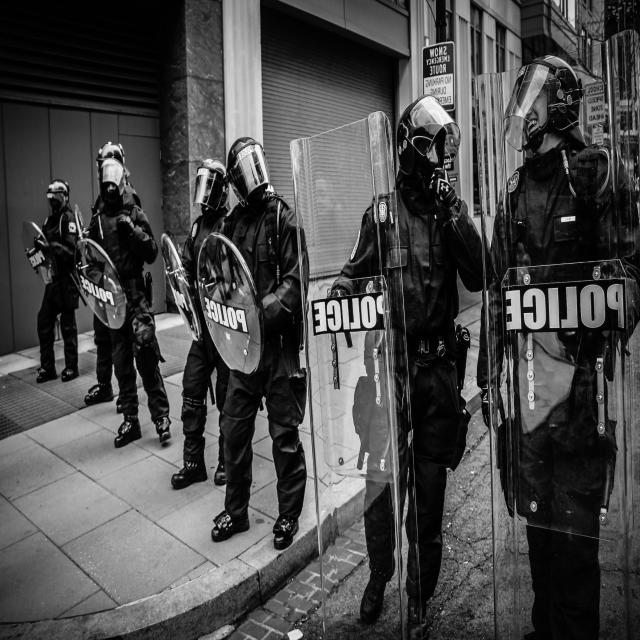adult: (330, 86, 498, 640), (480, 58, 634, 640), (212, 134, 308, 547), (88, 143, 163, 457), (170, 153, 238, 487), (36, 174, 85, 378)
